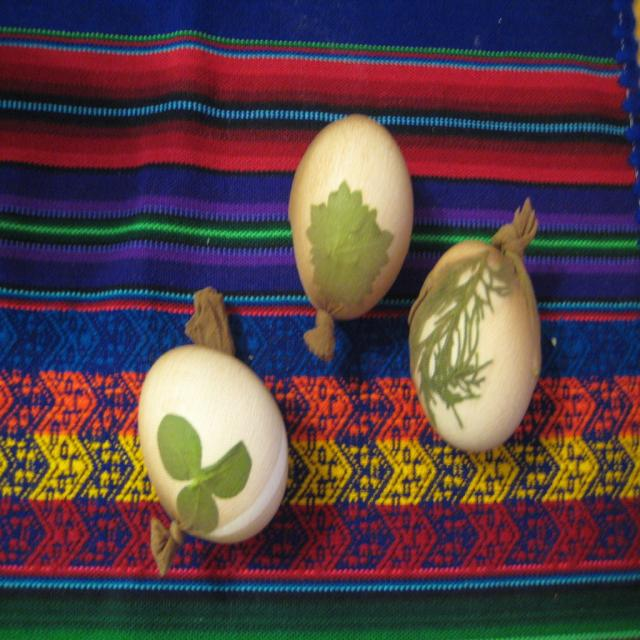Egg: (137, 342, 288, 541), (410, 240, 541, 454), (290, 113, 414, 320)
